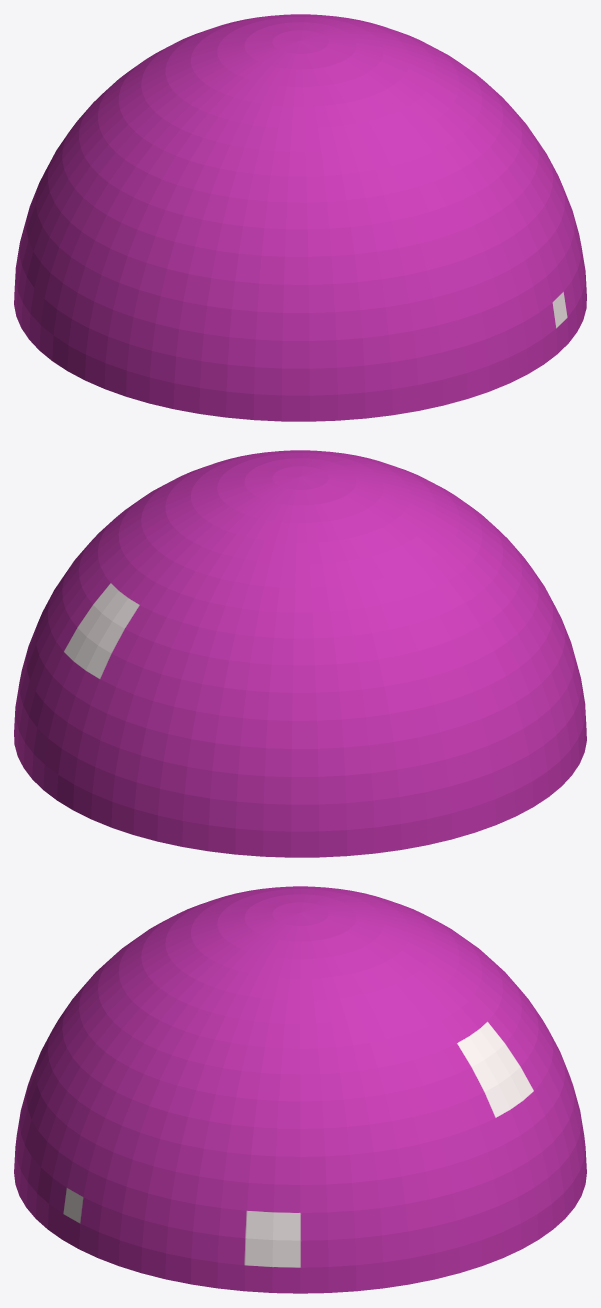
The picture shows the model from 3 angles, top to bottom: view 1: azimuth 30°, elevation 25°; view 2: azimuth 150°, elevation 25°; view 3: azimuth 270°, elevation 25°; orthographic projection.
Parts seen in each view (by area): view 1: Sphere; view 2: Sphere; view 3: Sphere.
Part boxes in pixels (bbox=[...]): Sphere: bbox=[14, 14, 586, 421]; Sphere: bbox=[14, 450, 586, 857]; Sphere: bbox=[14, 886, 586, 1293].
Bounding box in the file's own units: 2 × 1 × 2.
Materials: 1 (1 with a texture image).
